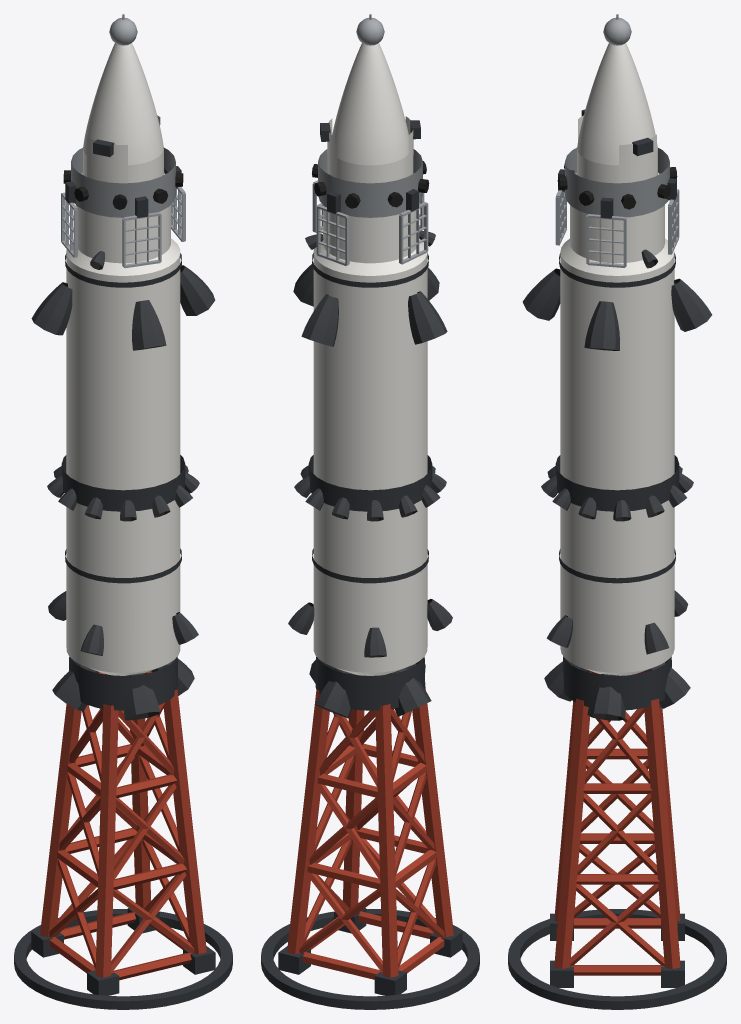
File: les_apollo.glb
The picture shows the model from 3 angles, left to right: view 1: azimuth 30°, elevation 25°; view 2: azimuth 150°, elevation 25°; view 3: azimuth 270°, elevation 25°; orthographic projection.
Visible parts, largest first — view 1: body, slot_motor__ring, slot_steering__acm, slot_motor__staged, slot_steering__gridfins, slot_motor, slot_motor__reverse, slot_steering__canards; view 2: body, slot_motor__ring, slot_steering__acm, slot_motor__staged, slot_steering__gridfins, slot_motor__reverse, slot_motor, slot_steering__canards; view 3: body, slot_motor__ring, slot_steering__acm, slot_motor__staged, slot_steering__gridfins, slot_motor, slot_motor__reverse, slot_steering__canards.
Boxes of the visible parts, x1,y1,x2,y2 form: body: [14, 14, 232, 1009]; slot_motor__ring: [47, 455, 199, 521]; slot_steering__acm: [63, 147, 183, 217]; slot_motor__staged: [31, 265, 214, 655]; slot_steering__gridfins: [61, 166, 185, 268]; slot_motor: [52, 658, 194, 720]; slot_motor__reverse: [37, 265, 215, 350]; slot_steering__canards: [86, 115, 160, 183]; body: [261, 14, 479, 1009]; slot_motor__ring: [294, 455, 446, 521]; slot_steering__acm: [312, 149, 429, 217]; slot_motor__staged: [288, 265, 452, 657]; slot_steering__gridfins: [312, 180, 428, 265]; slot_motor__reverse: [293, 264, 442, 346]; slot_motor: [309, 660, 431, 718]; slot_steering__canards: [320, 116, 420, 177]; body: [508, 14, 726, 1009]; slot_motor__ring: [541, 455, 693, 521]; slot_steering__acm: [557, 147, 677, 217]; slot_motor__staged: [523, 268, 709, 654]; slot_steering__gridfins: [555, 169, 679, 267]; slot_motor: [544, 659, 690, 720]; slot_motor__reverse: [522, 268, 712, 350]; slot_steering__canards: [578, 109, 656, 183].
Size of the model in its own units: 0.9199 by 4.4 by 0.9199.
